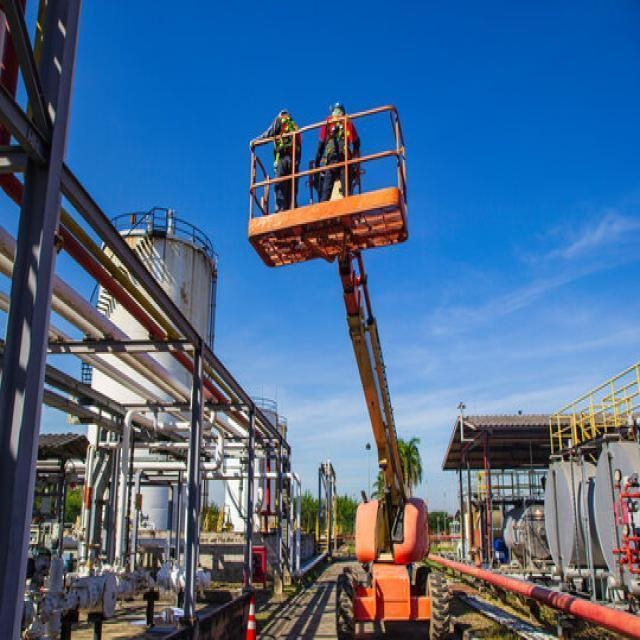Arnes_seguridad: (273, 115, 298, 175), (326, 114, 351, 172)
